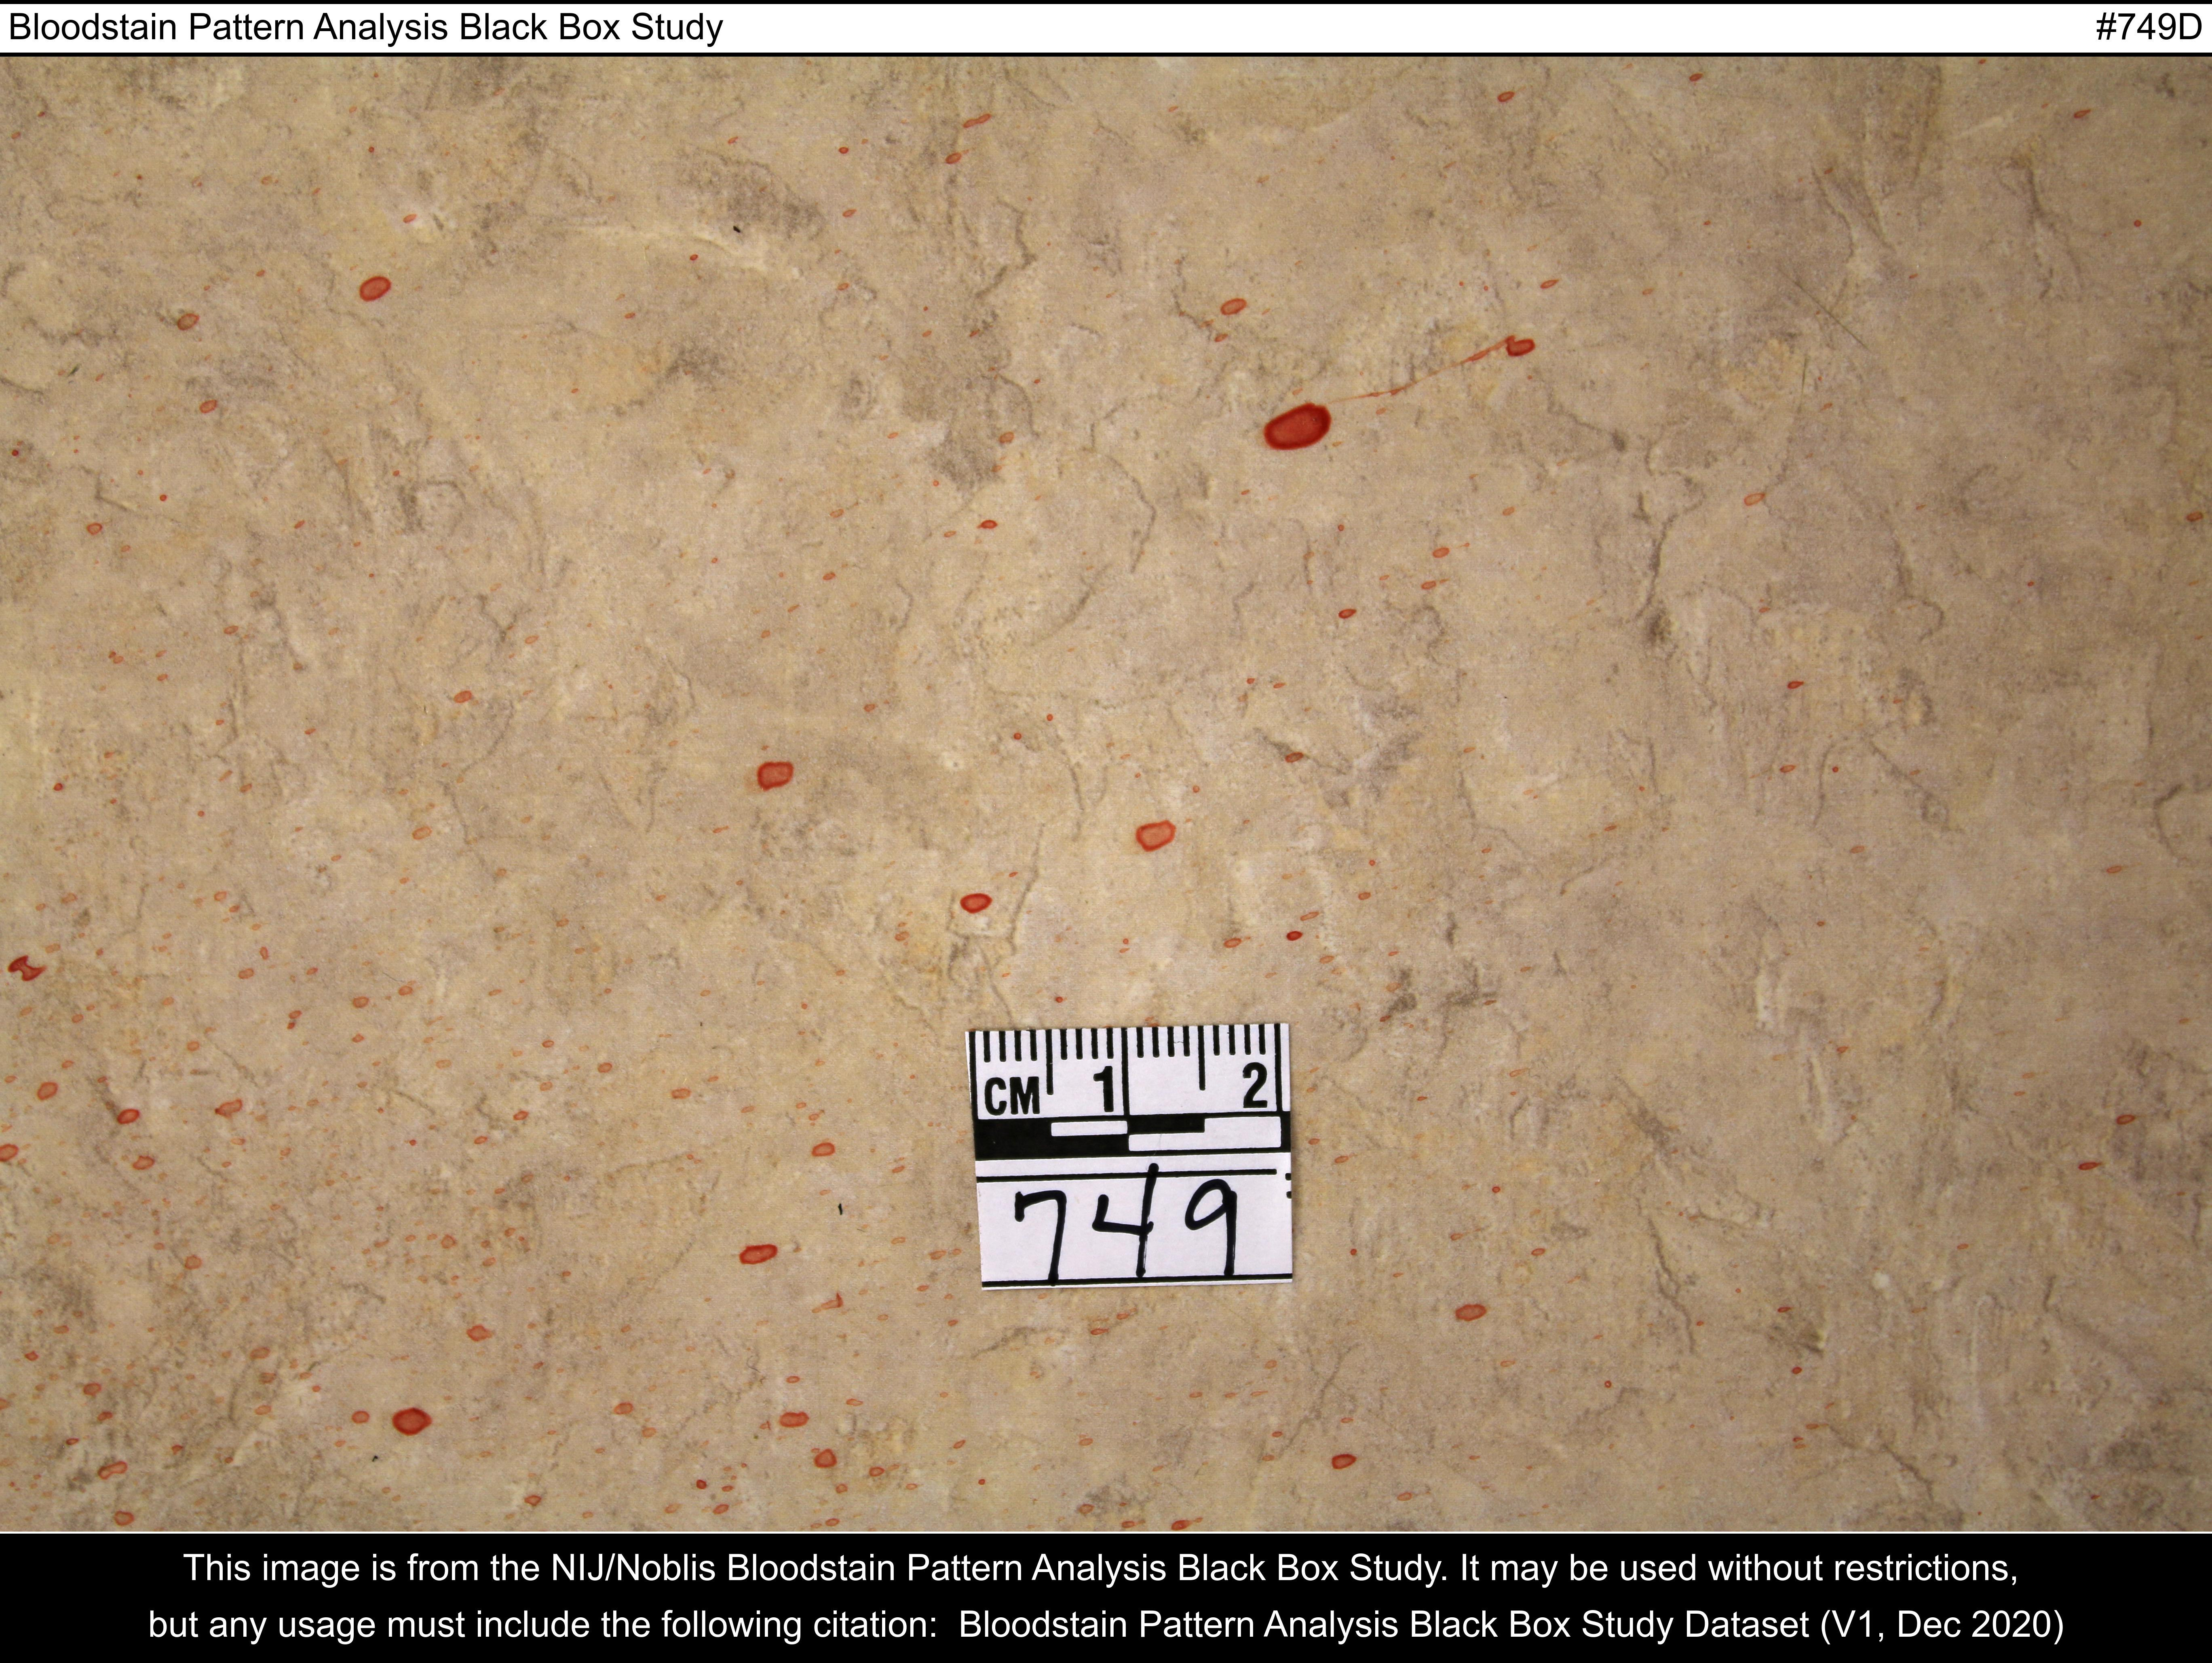Impact: (182, 121, 1697, 1504)
